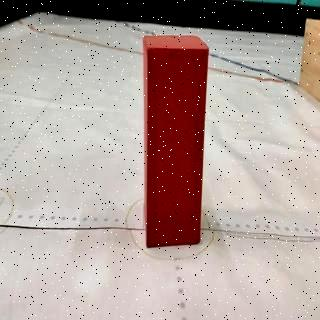redbox: (142, 34, 210, 250)
